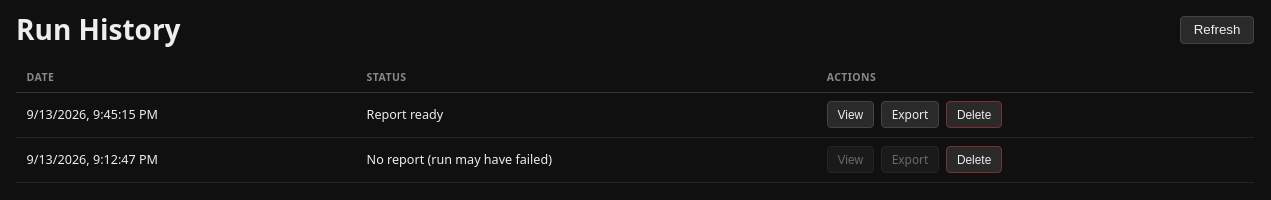
HistoryPage › Delete asks for confirmation, then removes the run and refreshes the list
Click the button "Delete" in the row of "9/13/2026, 9:45:15 PM" at (974, 115), box x1=946 y1=101 x2=1002 y2=128
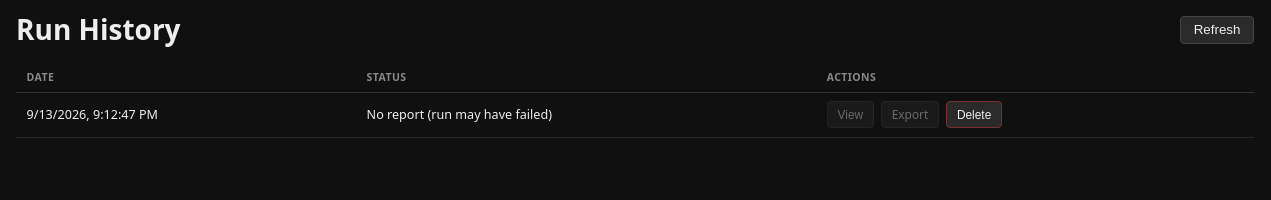
Expected: the text "No report (run may have failed)" is shown, x1=356 y1=92 x2=816 y2=138
Expected: the text "Report ready" is gone
